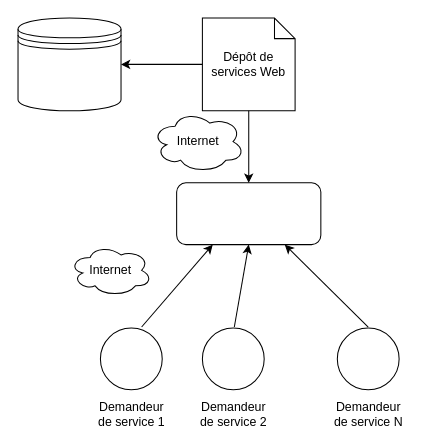
The diagram is 427 pixels wide and 448 high, and some of its shapes have lost their labels. The shapes that lost their labels are listed below. From the top down, each one's centre as x and y in pixels, then its label:
At pixel 69 64: "Serveur de base de données".
At pixel 248 213: "Contrôleur de services Web".
